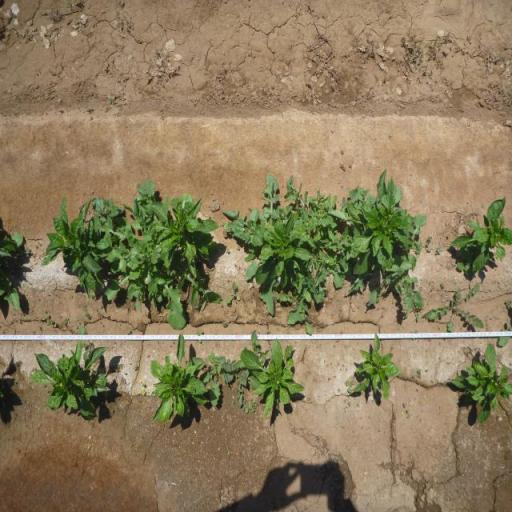plant: (37, 200, 108, 299), (27, 340, 112, 421), (349, 170, 411, 276), (149, 332, 211, 430), (149, 197, 221, 279), (240, 338, 309, 423), (446, 344, 512, 426), (452, 194, 512, 271), (354, 334, 400, 400), (261, 213, 309, 276)
weed: (89, 177, 226, 332), (247, 261, 328, 331), (220, 173, 287, 246), (423, 282, 486, 332), (372, 266, 424, 322), (307, 186, 344, 262), (190, 350, 235, 412), (222, 349, 252, 408), (91, 195, 125, 217), (250, 328, 270, 365), (495, 320, 512, 346), (224, 280, 242, 304), (138, 378, 152, 400), (458, 257, 472, 276), (81, 341, 94, 361), (412, 240, 422, 260), (424, 235, 434, 255), (241, 400, 251, 414), (343, 380, 353, 394), (252, 399, 260, 414), (23, 245, 30, 257), (505, 298, 512, 310), (47, 319, 54, 327), (196, 329, 204, 336), (435, 246, 442, 254), (416, 368, 421, 378), (62, 318, 68, 326), (84, 312, 90, 318), (132, 364, 138, 370)
